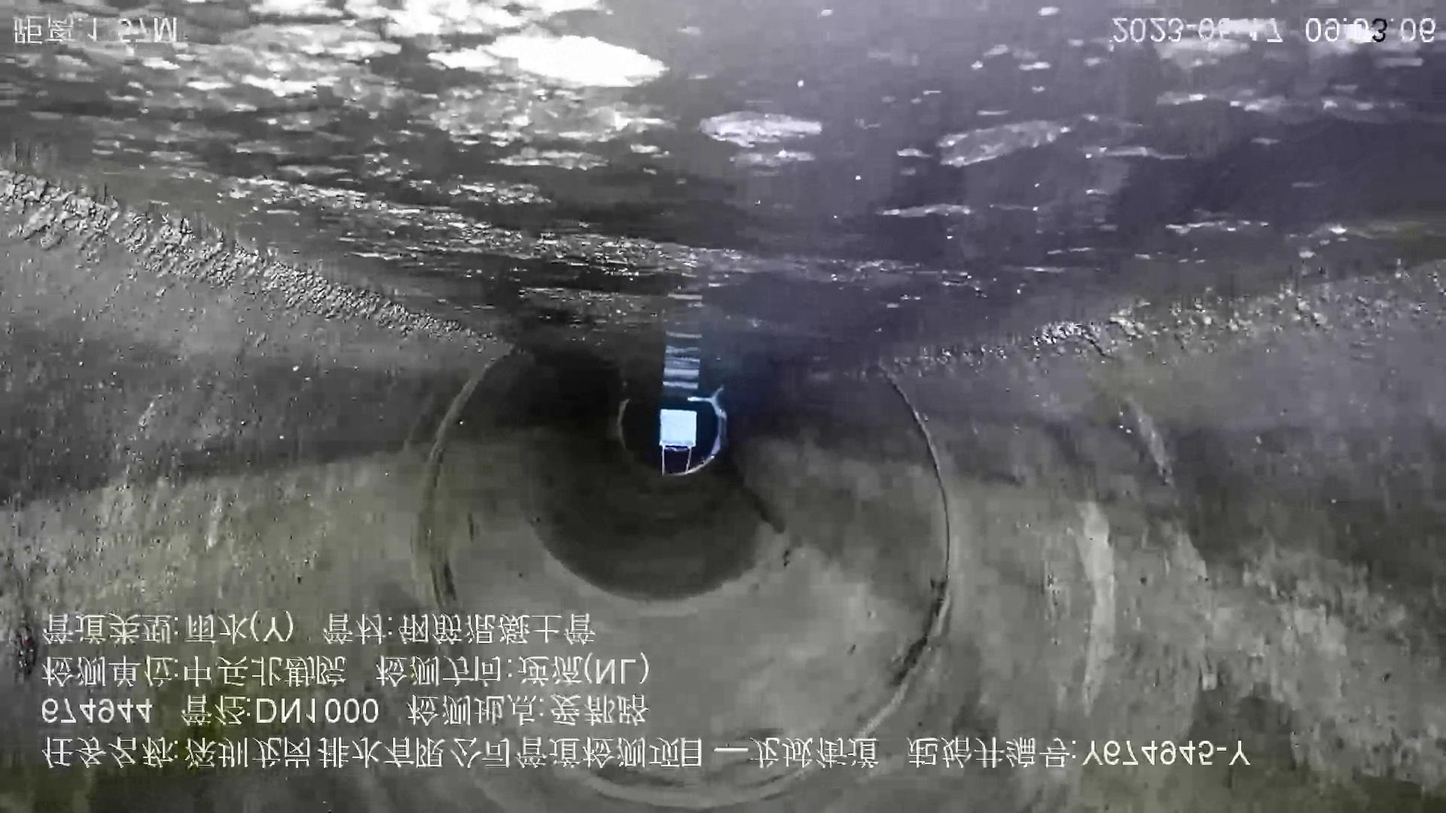FZ: (0, 1, 1445, 400)
